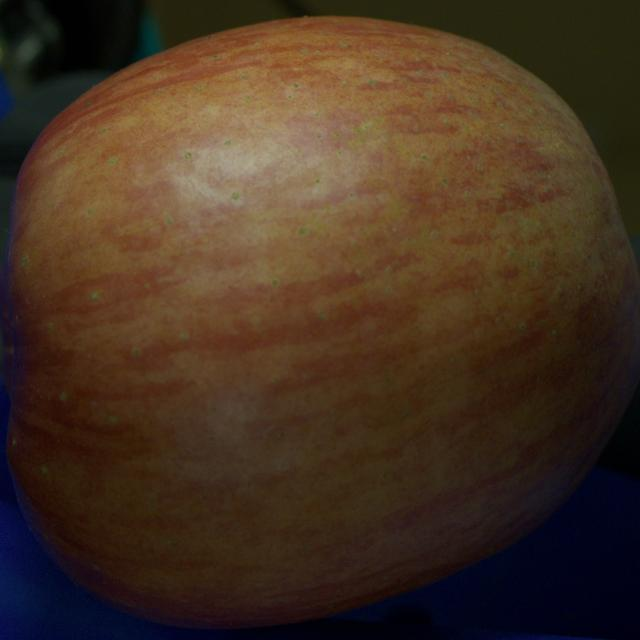apple: (0, 16, 639, 628)
